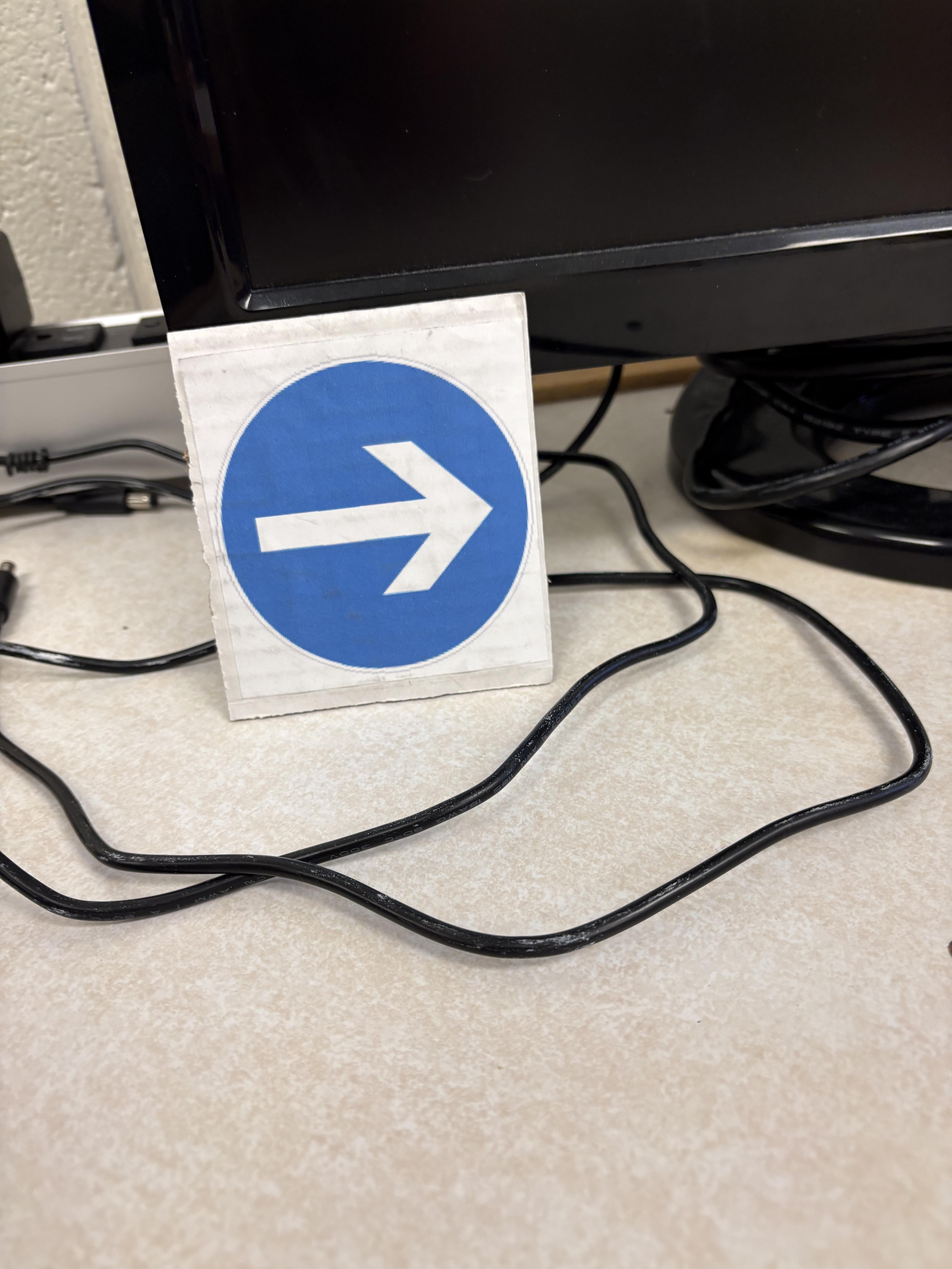Proceed Right: (129, 388, 422, 964)
